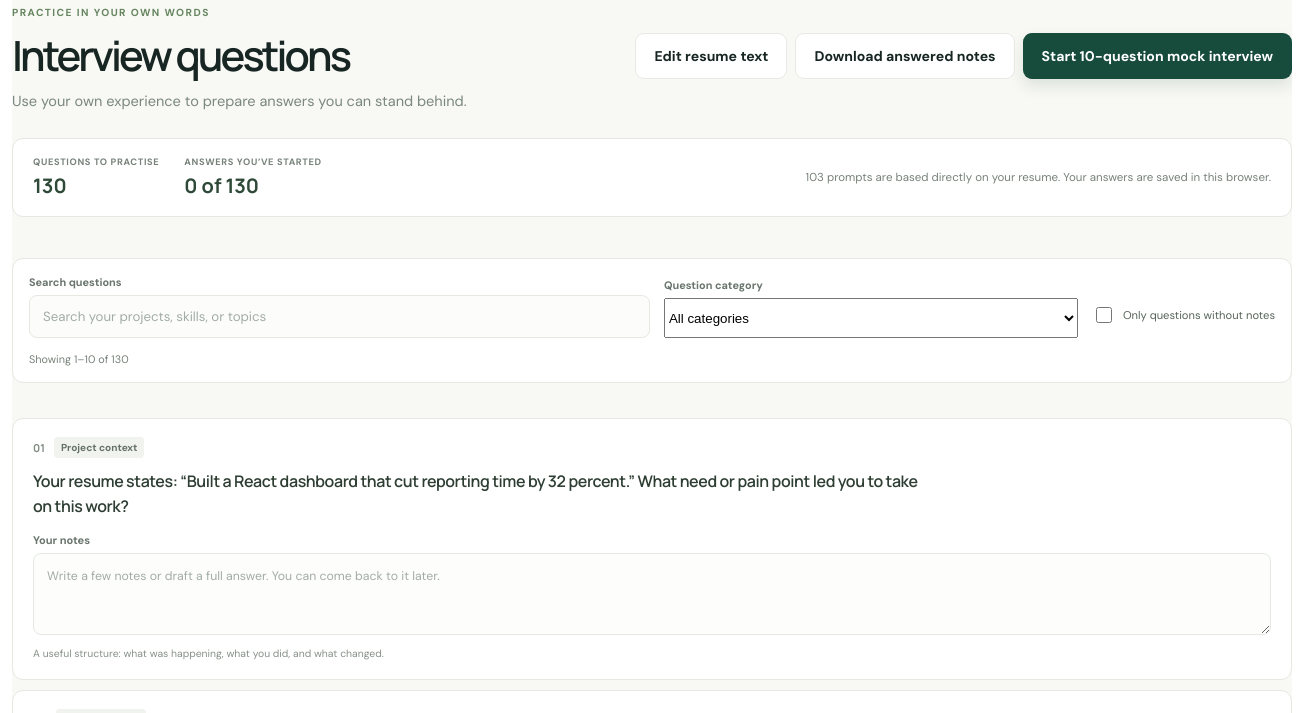
it: starts and saves progress in a resume-based mock interview
Click the button "Start 10-question mock interview" at x=1157, y=56, box [1023,32,1292,78]
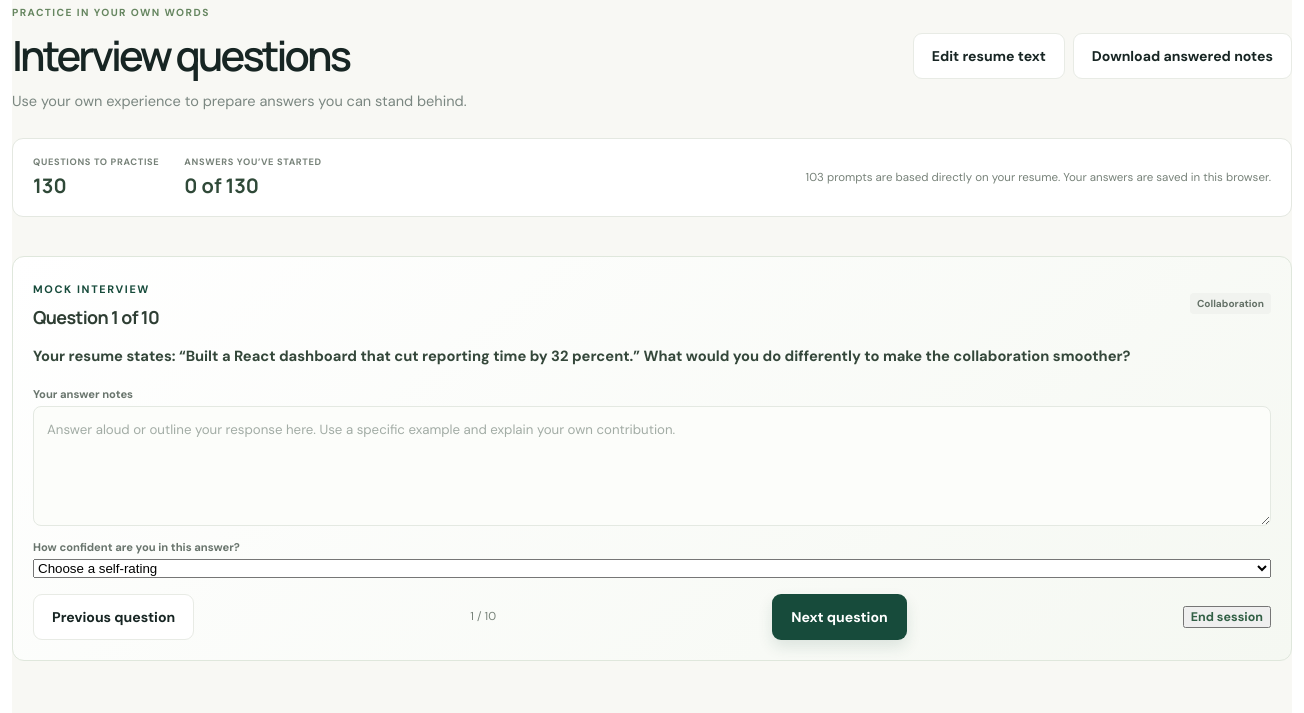
Expected: the heading "Question 1 of 10" is shown, [33,305,159,329]
Replace the text in the text box labelled "Your answer notes" with "I built the dashboard and measured reporting time." at x=652, y=466, box [33,406,1271,526]
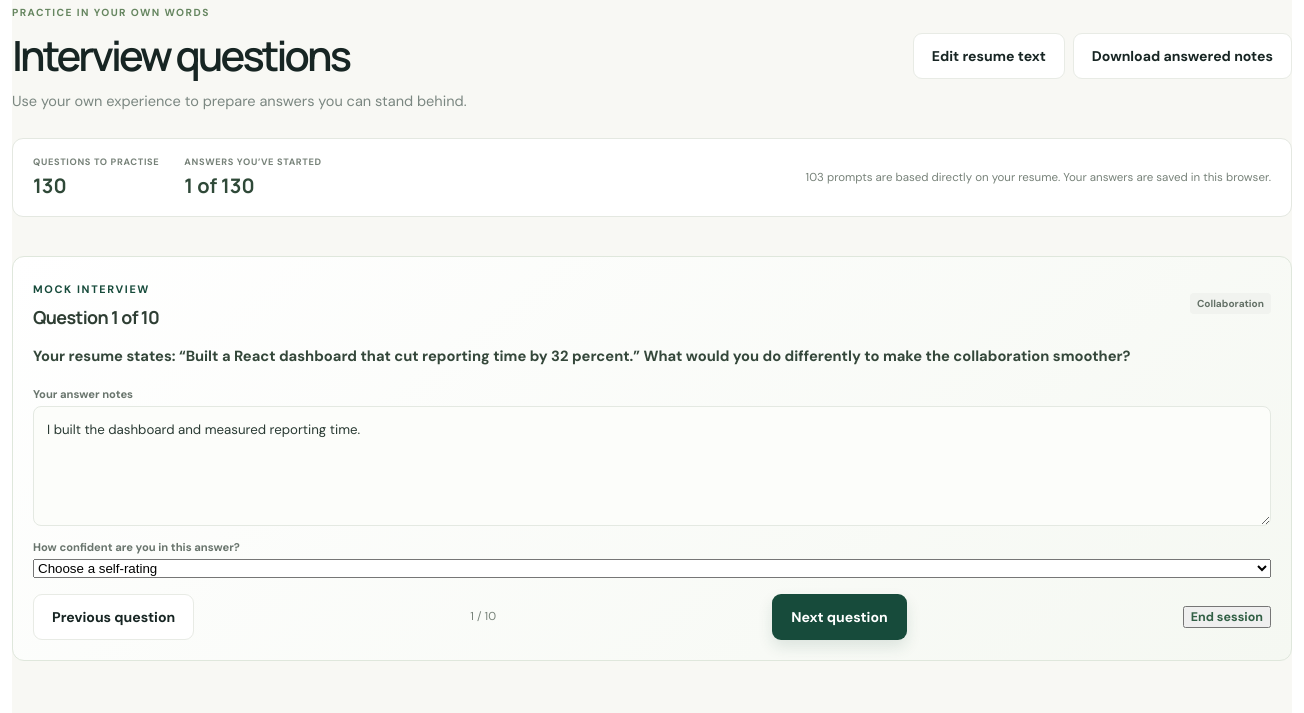
Select "4 — Confident" in the dropdown labelled "How confident are you in this answer?" at x=652, y=568, box [33,558,1271,578]
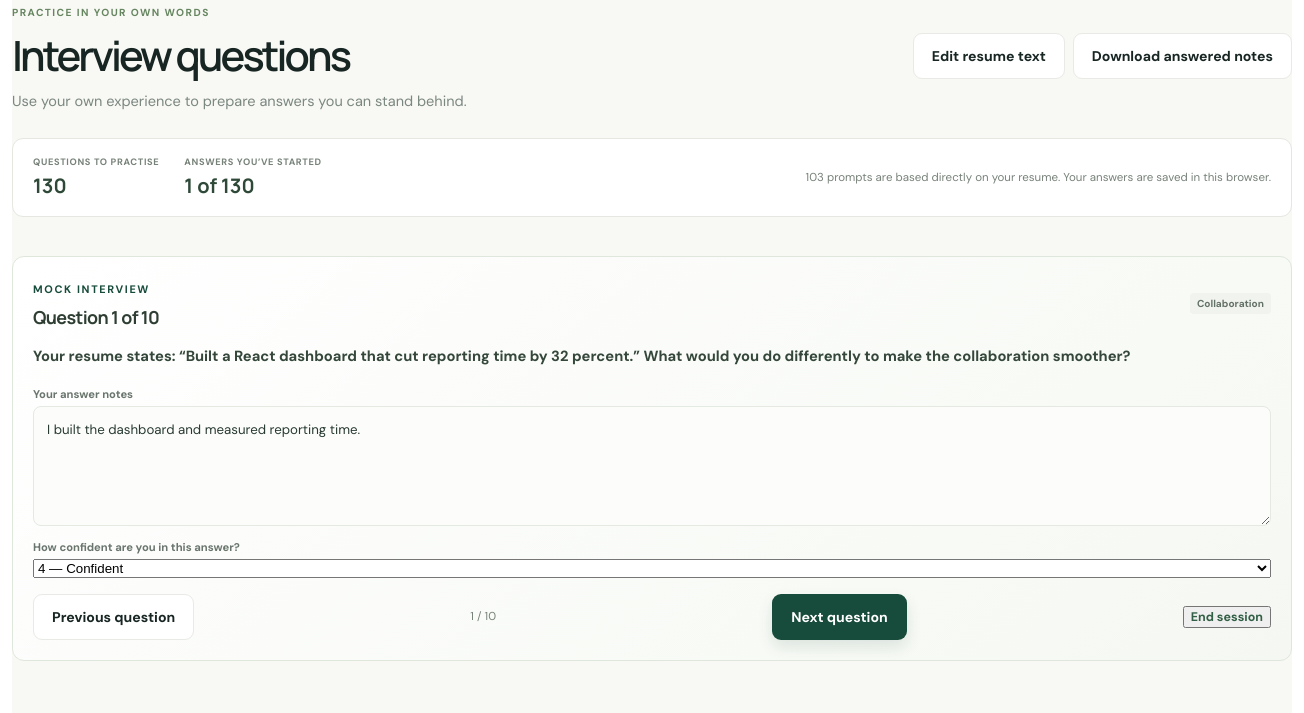
Click the button "Next question" at x=839, y=616, box [772,594,907,640]
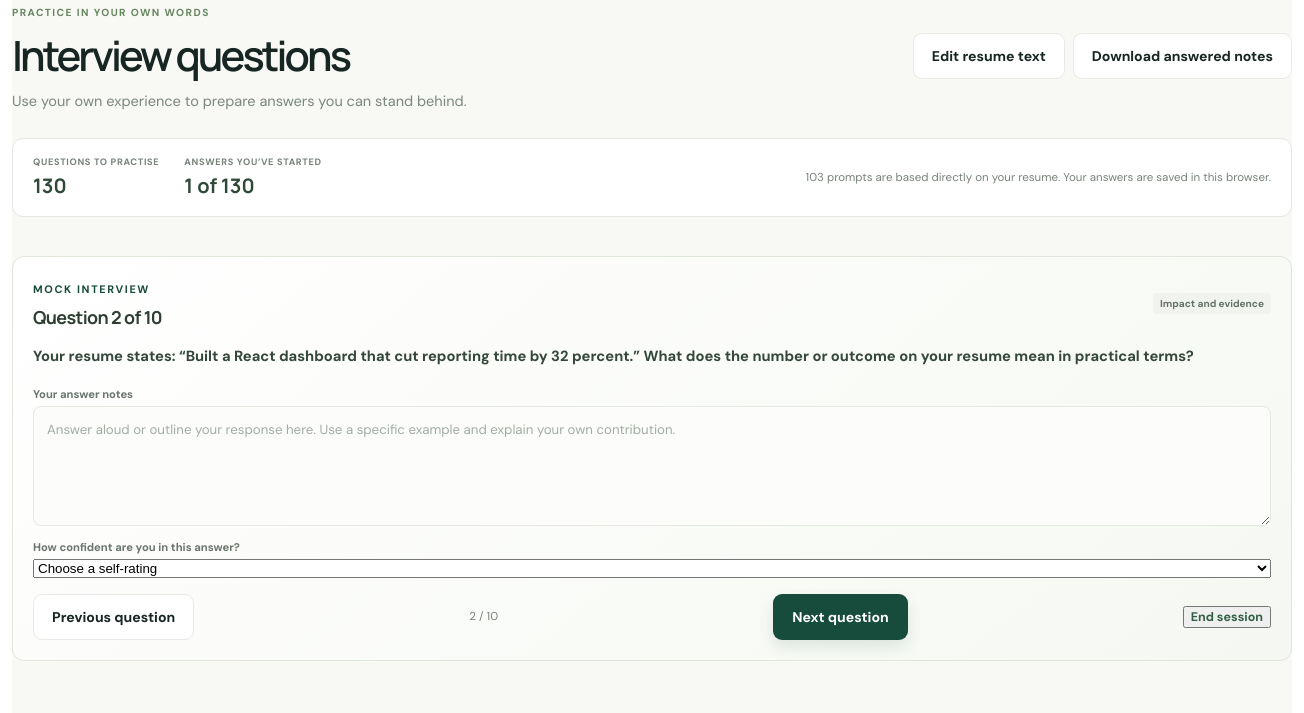
Expected: the heading "Question 2 of 10" is shown, [33,305,162,329]
Click the button "Previous question" at x=114, y=616, box [33,594,194,640]
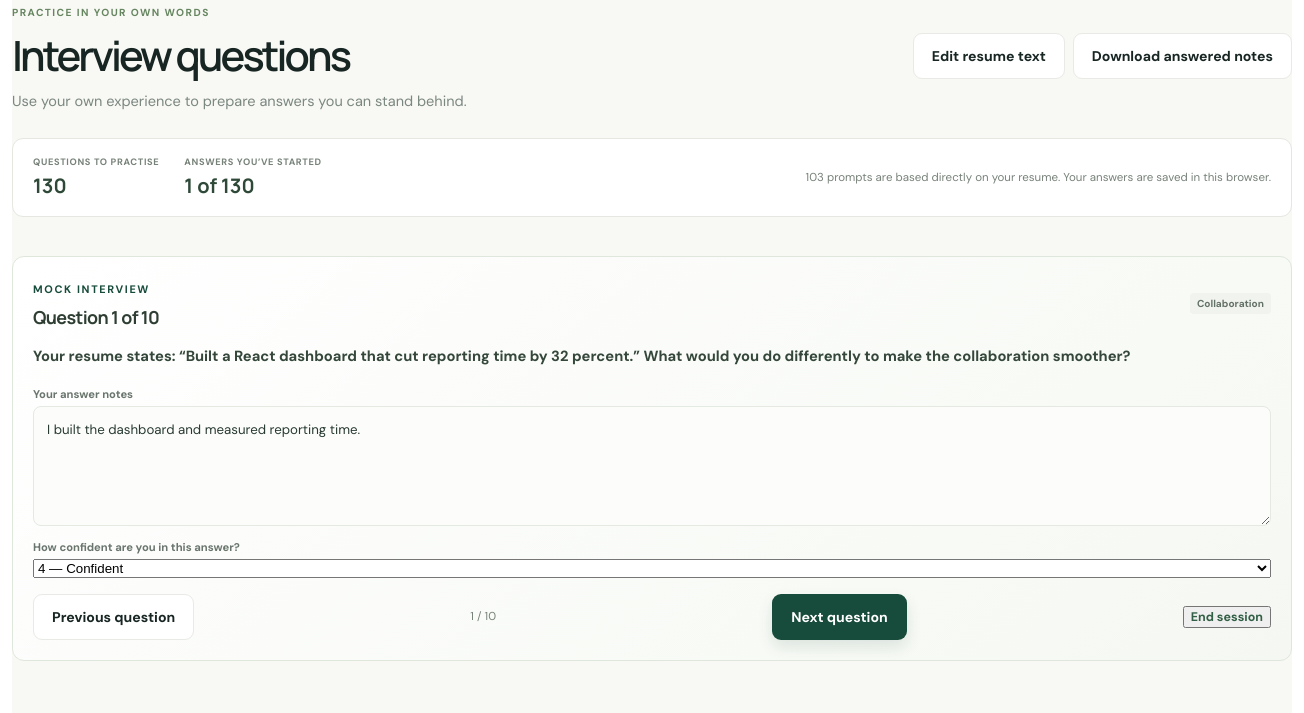
Expected: the heading "Question 1 of 10" is shown, [33,305,159,329]
